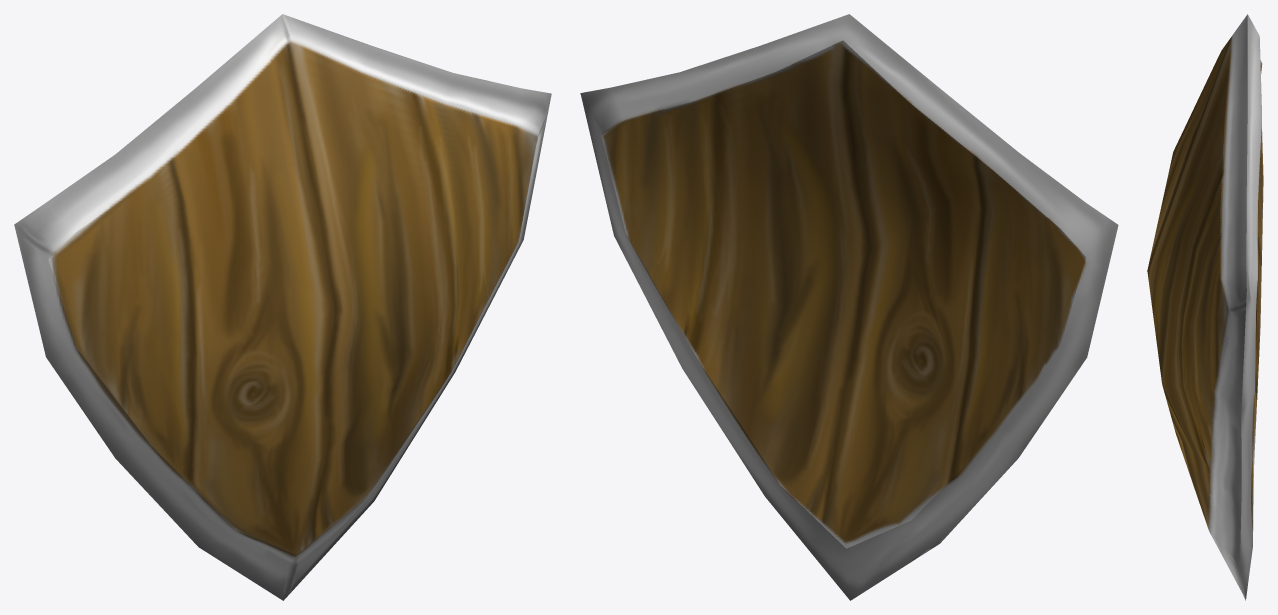
Rendered from Shield.fbx.
3 views of the same model, side by side, from view 1: azimuth 30°, elevation 25°; view 2: azimuth 150°, elevation 25°; view 3: azimuth 270°, elevation 25° (orthographic).
Parts seen in each view (by area): view 1: shield; view 2: shield; view 3: shield.
Boxes of the visible parts, x1,y1,x2,y2 form: shield: (14,14,551,600); shield: (580,14,1118,600); shield: (1147,14,1263,600).
Bounding box in the file's own units: 89.94 × 93.79 × 16.84.
